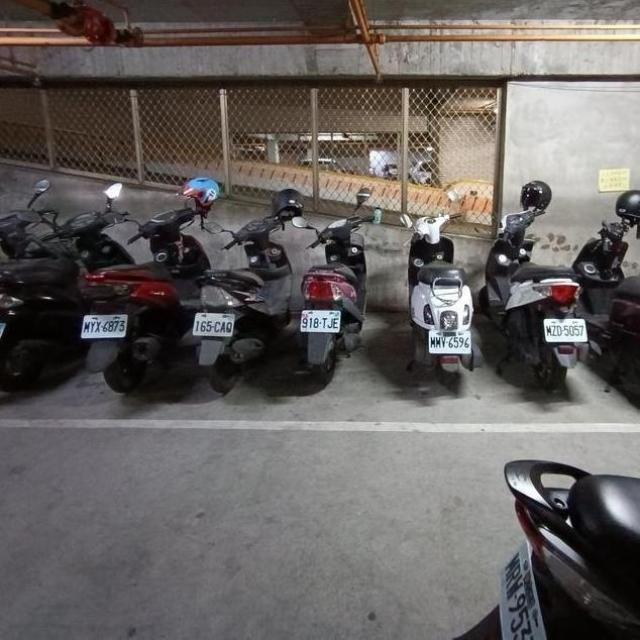W: (78, 306, 131, 343), (539, 312, 589, 347), (191, 306, 237, 340), (425, 326, 472, 356), (298, 304, 342, 335), (0, 313, 8, 343)
